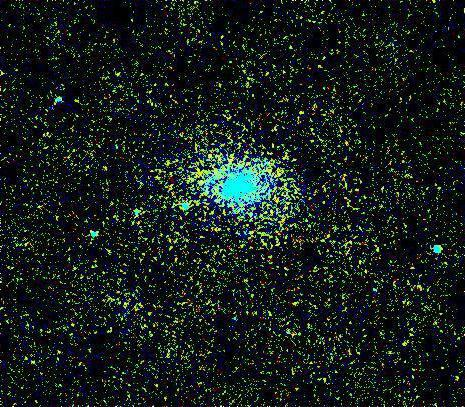star: (393, 324, 423, 354)
